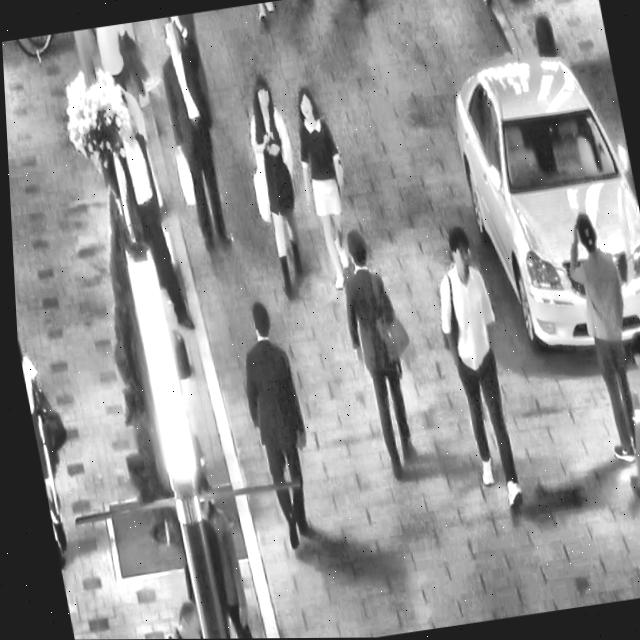light_vehicle: (433, 28, 640, 373)
